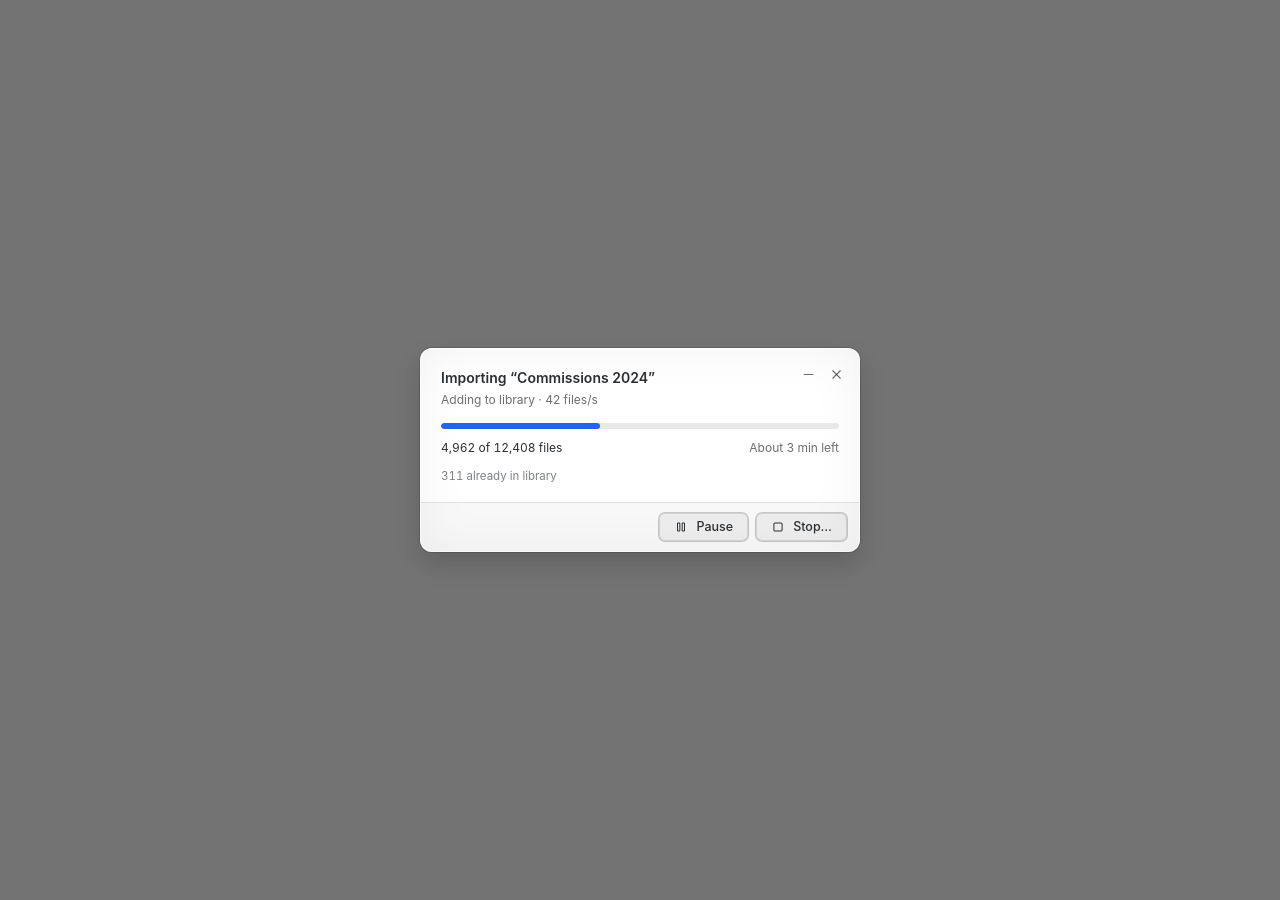
Test: TaskDialog › asks what happens to the files when a running import is closed
Click the button named "Close": (836, 374) [823,361,849,387]
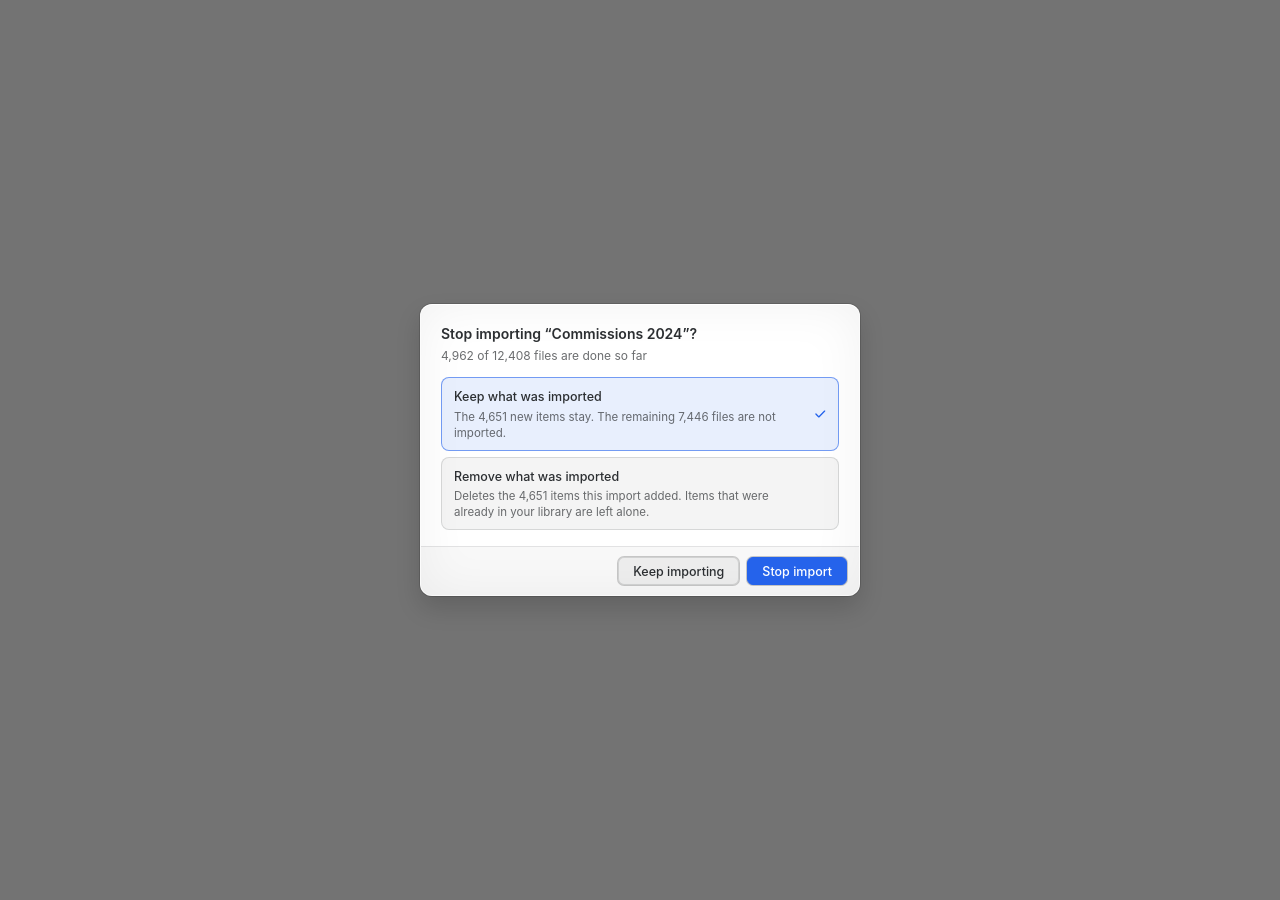
Check: the text "Stop importing “Commissions 2024”?" is shown, box [441,325,697,342]
